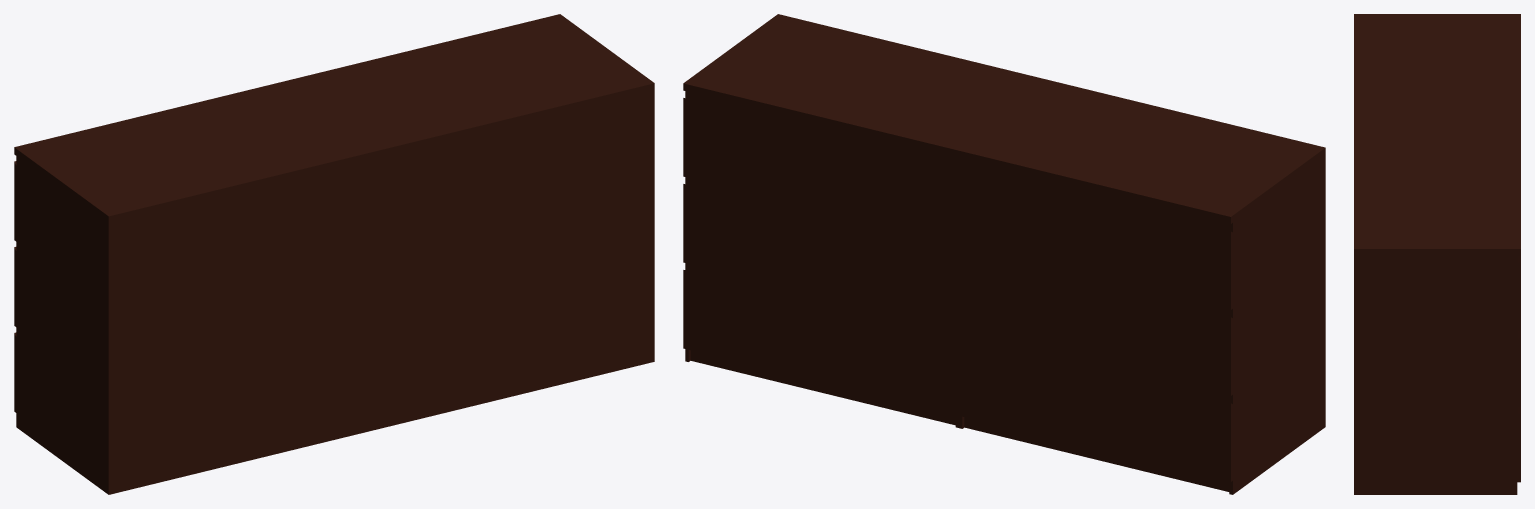
The picture shows the model from 3 angles, left to right: view 1: azimuth 30°, elevation 25°; view 2: azimuth 150°, elevation 25°; view 3: azimuth 270°, elevation 25°; orthographic projection. The views are drawn at different scales.
Visible parts, largest first — view 1: mesh35_mesh35-geometry, mesh21_mesh21-geometry, mesh3_mesh3-geometry, mesh1_mesh1-geometry; view 2: mesh21_mesh21-geometry, mesh3_mesh3-geometry, mesh13_mesh13-geometry, mesh5_mesh5-geometry, mesh9_mesh9-geometry, mesh29_mesh29-geometry, mesh17_mesh17-geometry, mesh23_mesh23-geometry, mesh27_mesh27-geometry, mesh33_mesh33-geometry, mesh19_mesh19-geometry, mesh25_mesh25-geometry (+4 smaller); view 3: mesh21_mesh21-geometry, mesh1_mesh1-geometry, mesh35_mesh35-geometry, mesh17_mesh17-geometry, mesh23_mesh23-geometry, mesh29_mesh29-geometry.
Boxes of the visible parts, x1=… form: mesh35_mesh35-geometry: x1=106, y1=90, x2=654, y2=494; mesh21_mesh21-geometry: x1=14, y1=14, x2=654, y2=223; mesh3_mesh3-geometry: x1=16, y1=156, x2=112, y2=494; mesh1_mesh1-geometry: x1=651, y1=92, x2=654, y2=362; mesh21_mesh21-geometry: x1=683, y1=14, x2=1325, y2=223; mesh3_mesh3-geometry: x1=1229, y1=155, x2=1325, y2=494; mesh13_mesh13-geometry: x1=957, y1=336, x2=1232, y2=481; mesh5_mesh5-geometry: x1=957, y1=164, x2=1232, y2=309; mesh9_mesh9-geometry: x1=957, y1=250, x2=1232, y2=395; mesh29_mesh29-geometry: x1=683, y1=98, x2=956, y2=243; mesh17_mesh17-geometry: x1=683, y1=270, x2=956, y2=415; mesh23_mesh23-geometry: x1=683, y1=184, x2=956, y2=329; mesh27_mesh27-geometry: x1=690, y1=350, x2=955, y2=425; mesh33_mesh33-geometry: x1=964, y1=417, x2=1229, y2=491; mesh19_mesh19-geometry: x1=688, y1=264, x2=955, y2=335; mesh25_mesh25-geometry: x1=688, y1=178, x2=955, y2=249; mesh21_mesh21-geometry: x1=1354, y1=14, x2=1520, y2=255; mesh1_mesh1-geometry: x1=1354, y1=255, x2=1517, y2=494; mesh35_mesh35-geometry: x1=1354, y1=255, x2=1357, y2=494; mesh17_mesh17-geometry: x1=1517, y1=406, x2=1520, y2=482; mesh23_mesh23-geometry: x1=1517, y1=331, x2=1520, y2=406; mesh29_mesh29-geometry: x1=1517, y1=255, x2=1520, y2=330.
Size of the model in its own units: 0.8679 by 0.4231 by 0.2604.
